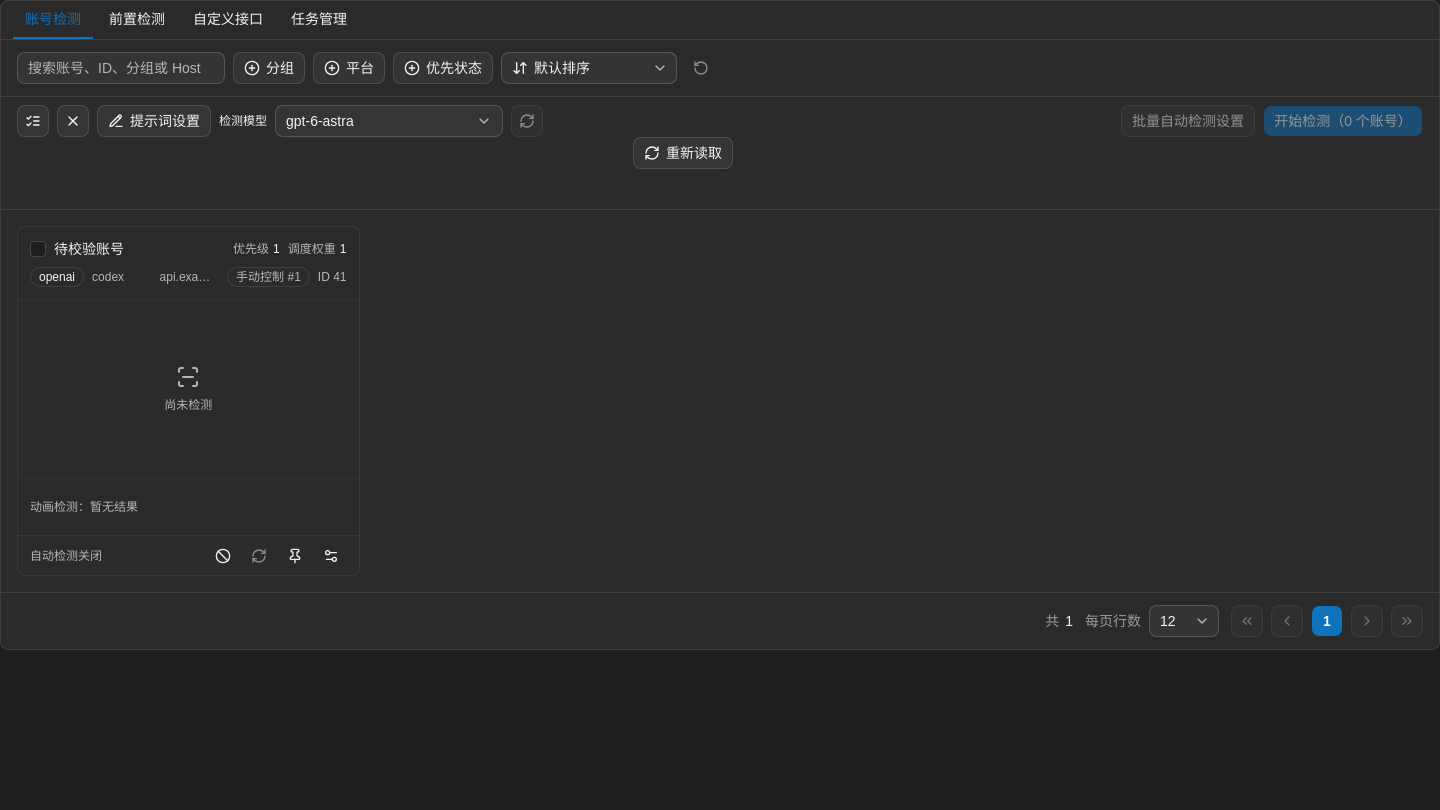
Test: 整份列表刷新未返回时，任务确认后立即更新手动控制（原值 1）
Click the button named "调整手动控制" at coordinates (294, 556), box [278, 540, 310, 572]
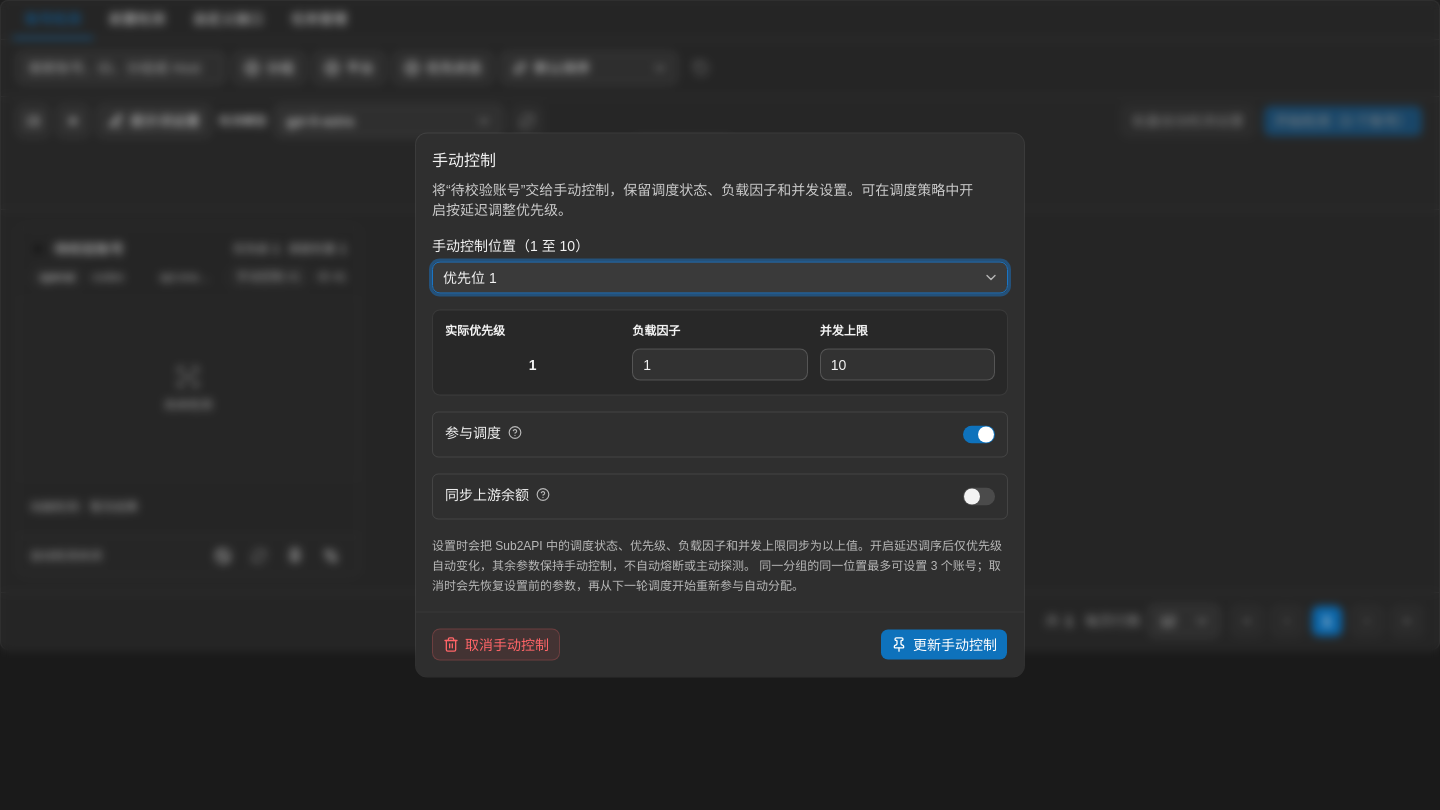
Click the button "取消手动控制" at coordinates (496, 644), box [432, 628, 560, 660]
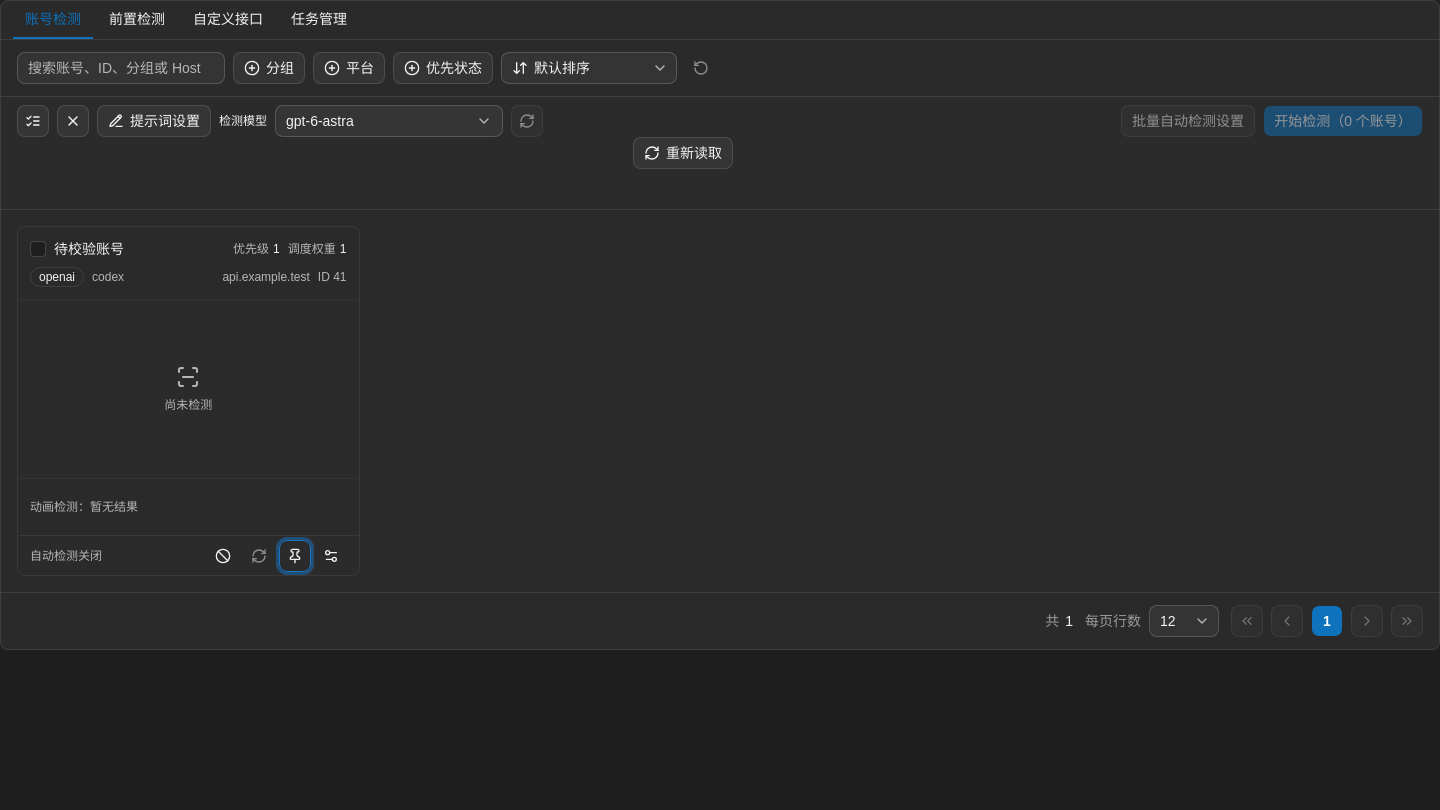
Check: the button named "设置手动控制" is enabled, box [278, 540, 310, 572]
Check: the dialog is gone
